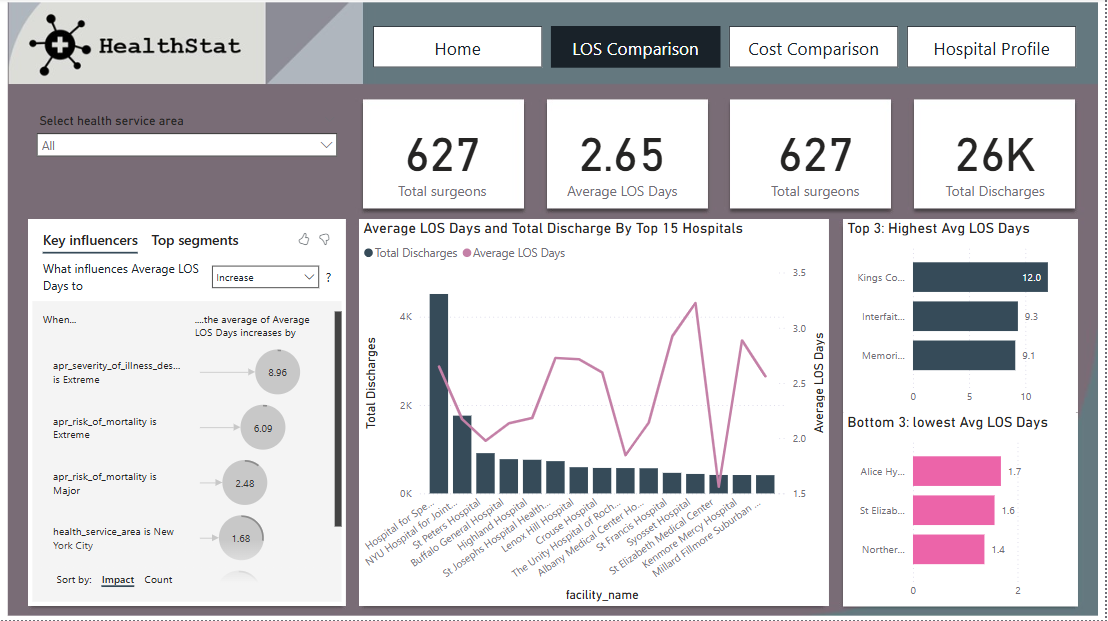

The page's visual inventory and layout, read from the dashboard file:
{"tool":"powerbi","page":{"name":"LOS Comparison","canvas":[1280,720],"ordinal":1},"visuals":[{"type":"image","box":[0,0,1280,720],"z":0},{"type":"lineStackedColumnComboChart","title":"Average LOS Days and Total Discharge By Top 15 Hospitals","fields":{"Category":["hospital_discharges.facility_name"],"Y":["__Measures.Total Discharges"],"Y2":["__Measures.Average LOS Days"]},"box":[416,256,544,448],"z":1000},{"type":"card","fields":{"Values":["__Measures.Total surgeons"]},"box":[432,128,160,112],"z":2000},{"type":"slicer","fields":{"Values":["hospital_discharges.health_service_area"]},"box":[32,128,368,96],"z":3000},{"type":"card","fields":{"Values":["__Measures.Average LOS Days"]},"box":[640,128,160,112],"z":4000},{"type":"card","fields":{"Values":["__Measures.Total surgeons"]},"box":[864,128,160,112],"z":5000},{"type":"card","fields":{"Values":["__Measures.Total Discharges"]},"box":[1072,128,160,112],"z":6000},{"type":"keyDriversVisual","fields":{"Target":["__Measures.Average LOS Days"],"ExplainBy":["hospital_discharges.apr_risk_of_mortality","hospital_discharges.apr_severity_of_illness_description","hospital_discharges.ccs_diagnosis_description","hospital_discharges.patient_disposition","hospital_discharges.gender","hospital_discharges.Age Bins","sergical_program_size_summary.Surgical Program Size","hospital_discharges.health_service_area"]},"box":[32,256,368,448],"z":7000},{"type":"clusteredBarChart","title":"Top 3: Highest Avg LOS Days","fields":{"Category":["hospital_discharges.facility_name"],"Y":["__Measures.Average LOS Days"]},"box":[976,256,272,224],"z":8000},{"type":"clusteredBarChart","title":"Bottom 3: lowest Avg LOS Days","fields":{"Category":["hospital_discharges.facility_name"],"Y":["__Measures.Average LOS Days"]},"box":[976,480,272,224],"z":9000},{"type":"pageNavigator","box":[432,32,816,48],"z":10000}]}

Visuals, with their boxes in screenshot pixels (x1, y1, x2, y2), scaled from the page's 1280x720 canvas onto the 1108x621 screenshot:
image: (left=0, top=0, right=1107, bottom=620)
"Average LOS Days and Total Discharge By Top 15 Hospitals" lineStackedColumnComboChart: (left=360, top=221, right=831, bottom=607)
card - __Measures.Total surgeons: (left=374, top=110, right=512, bottom=207)
slicer - hospital_discharges.health_service_area: (left=28, top=110, right=346, bottom=193)
card - __Measures.Average LOS Days: (left=554, top=110, right=692, bottom=207)
card - __Measures.Total surgeons: (left=748, top=110, right=886, bottom=207)
card - __Measures.Total Discharges: (left=928, top=110, right=1066, bottom=207)
keyDriversVisual - __Measures.Average LOS Days x hospital_discharges.apr_risk_of_mortality: (left=28, top=221, right=346, bottom=607)
"Top 3: Highest Avg LOS Days" clusteredBarChart: (left=845, top=221, right=1080, bottom=414)
"Bottom 3: lowest Avg LOS Days" clusteredBarChart: (left=845, top=414, right=1080, bottom=607)
pageNavigator: (left=374, top=28, right=1080, bottom=69)
